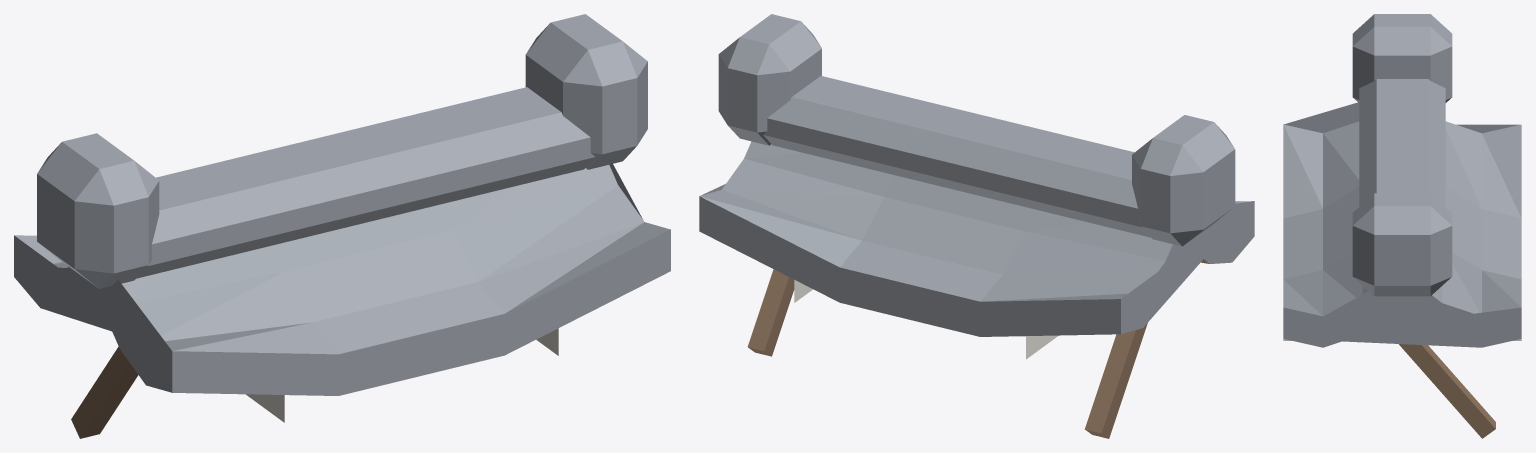
File: feudal-japan-castle-town-window-awning-f78ad888__26365.glb
The picture shows the model from 3 angles, left to right: view 1: azimuth 30°, elevation 25°; view 2: azimuth 150°, elevation 25°; view 3: azimuth 270°, elevation 25°; orthographic projection. The views are drawn at different scales.
Visible parts, largest first — view 1: window-awning; view 2: window-awning; view 3: window-awning.
Boxes of the visible parts, bbox=[...] form: window-awning: bbox=[14, 14, 670, 438]; window-awning: bbox=[699, 14, 1254, 438]; window-awning: bbox=[1283, 14, 1521, 438].
Bounding box in the file's own units: 2.3 × 1.28 × 1.1.
